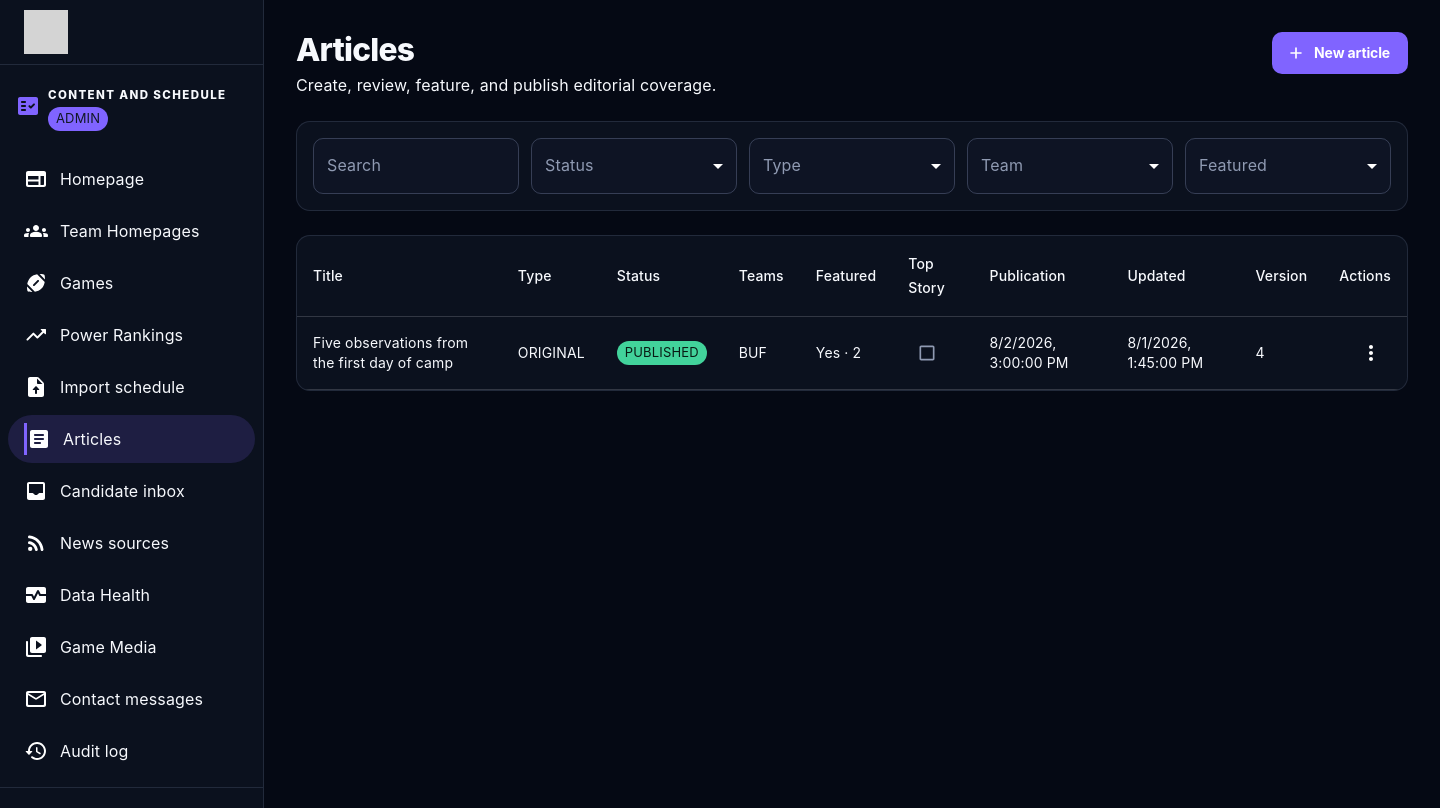
Test: Admin Article actions › surfaces a clear 403 permission error and keeps the article
The image size is (1440, 808).
Click the button named "Open actions for Five observations from the first day of cam": (1371, 353) [1351,333,1391,373]
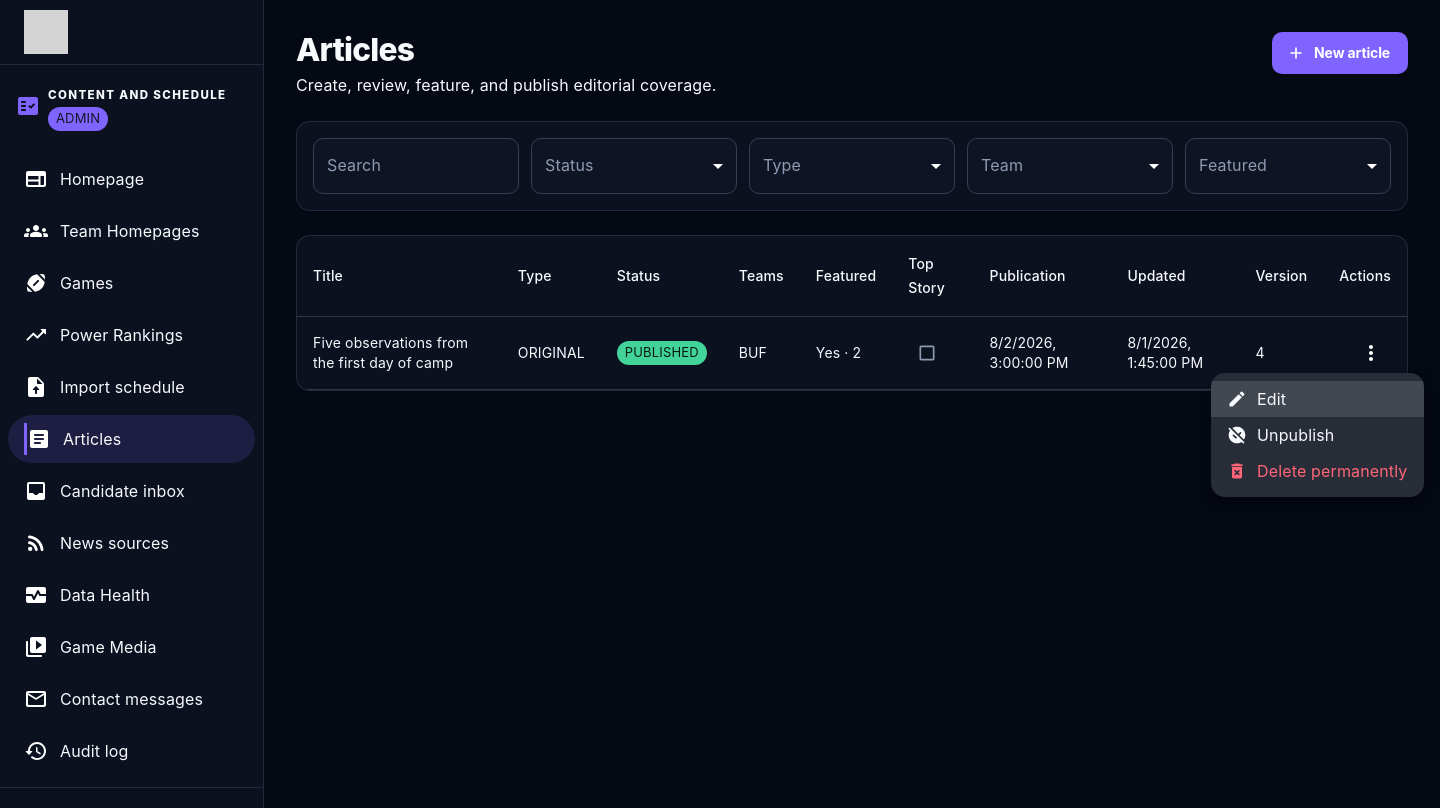
Click the menu item "Delete permanently": (1317, 471) [1227,461,1408,481]
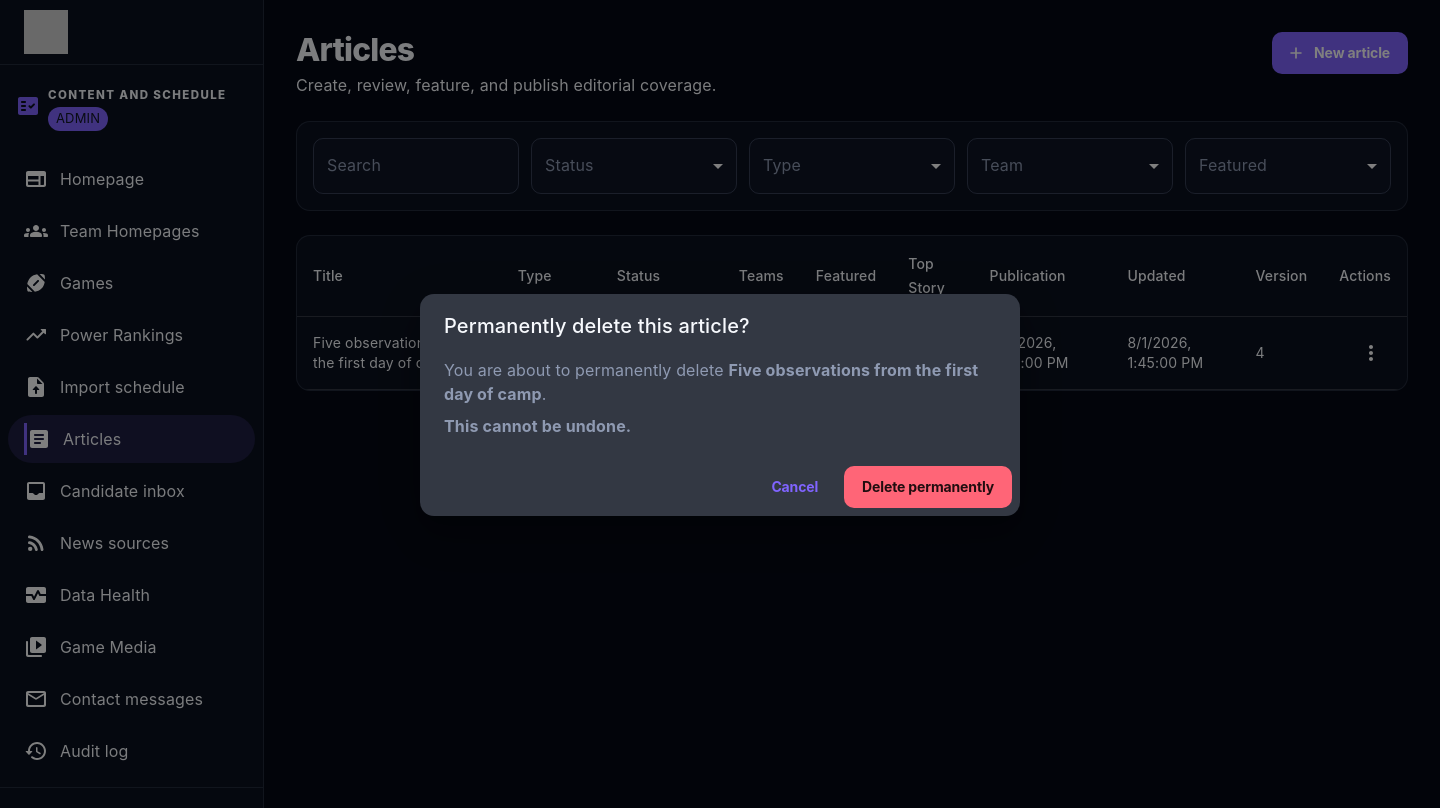
Click the button "Delete permanently": (928, 487) [844,466,1012,508]
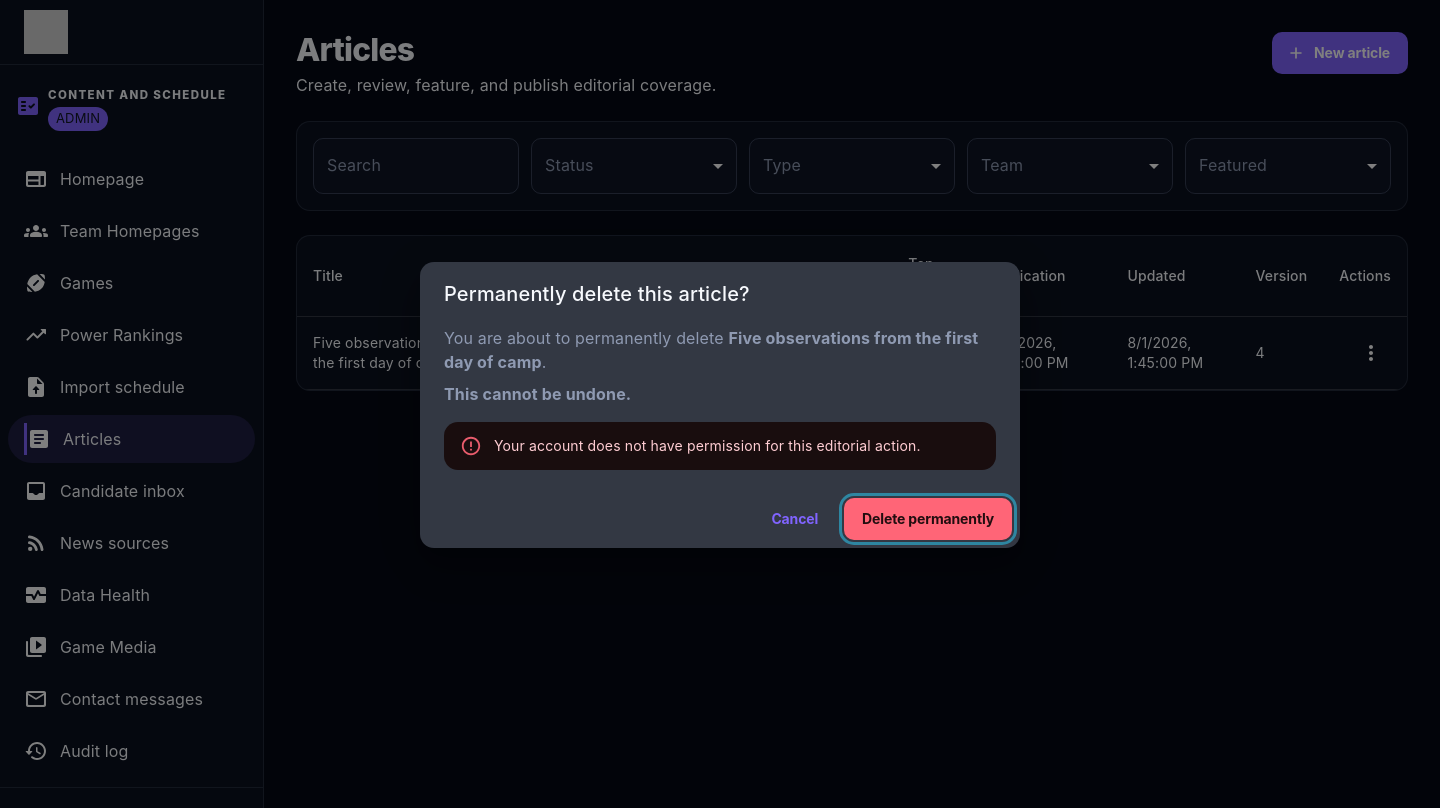
expect the link "Five observations from the first day of camp" is shown: met, box [313,334,468,371]
expect the text "does not have permission for this editorial action" is shown: met, box [494,437,921,454]
